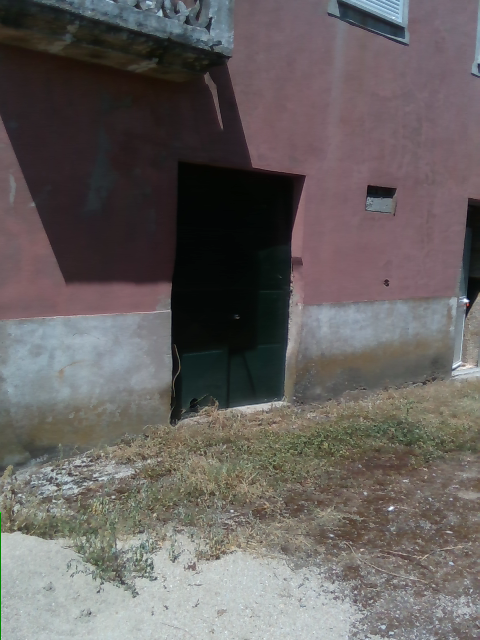closed: (449, 200, 479, 378)
